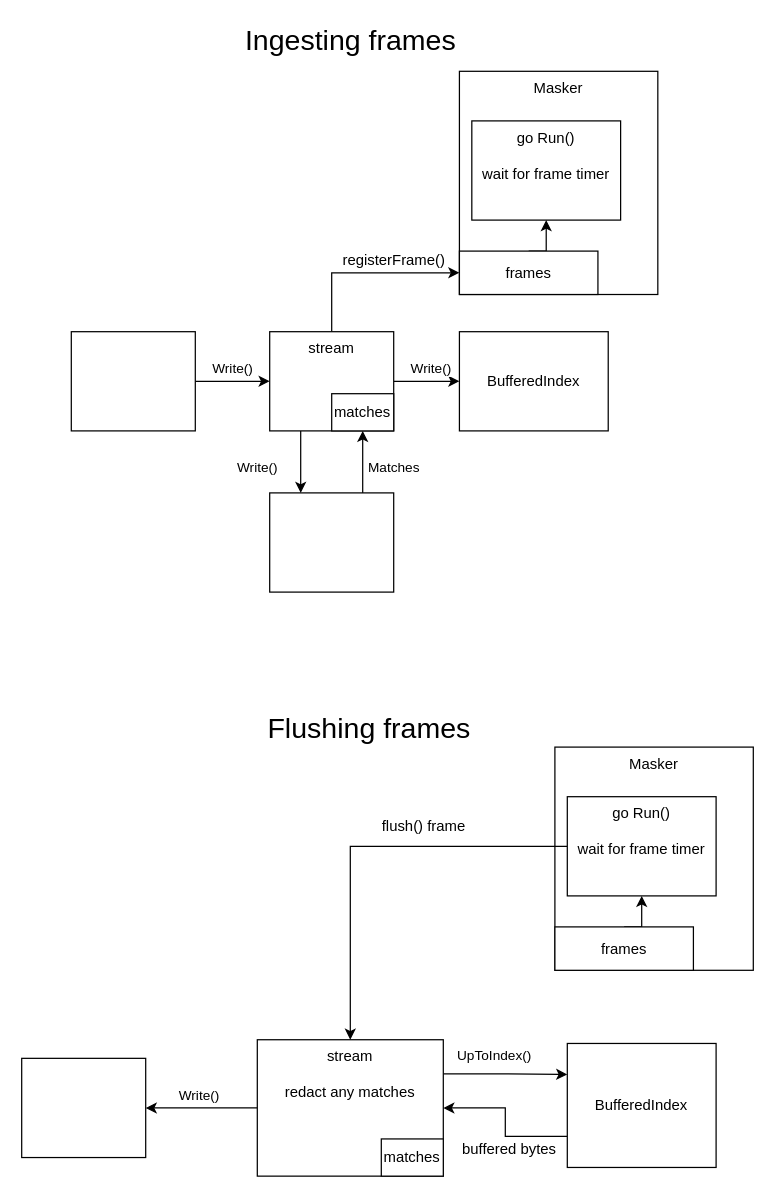
This 775x1198 diagram has some shape labels left out. The box of each missing label's shape, as (x1, y1, x2, y2) in pixels:
destination: (20, 1057, 146, 1158)
multipleMatcher: (268, 492, 394, 592)
process's stdout: (70, 330, 195, 431)
